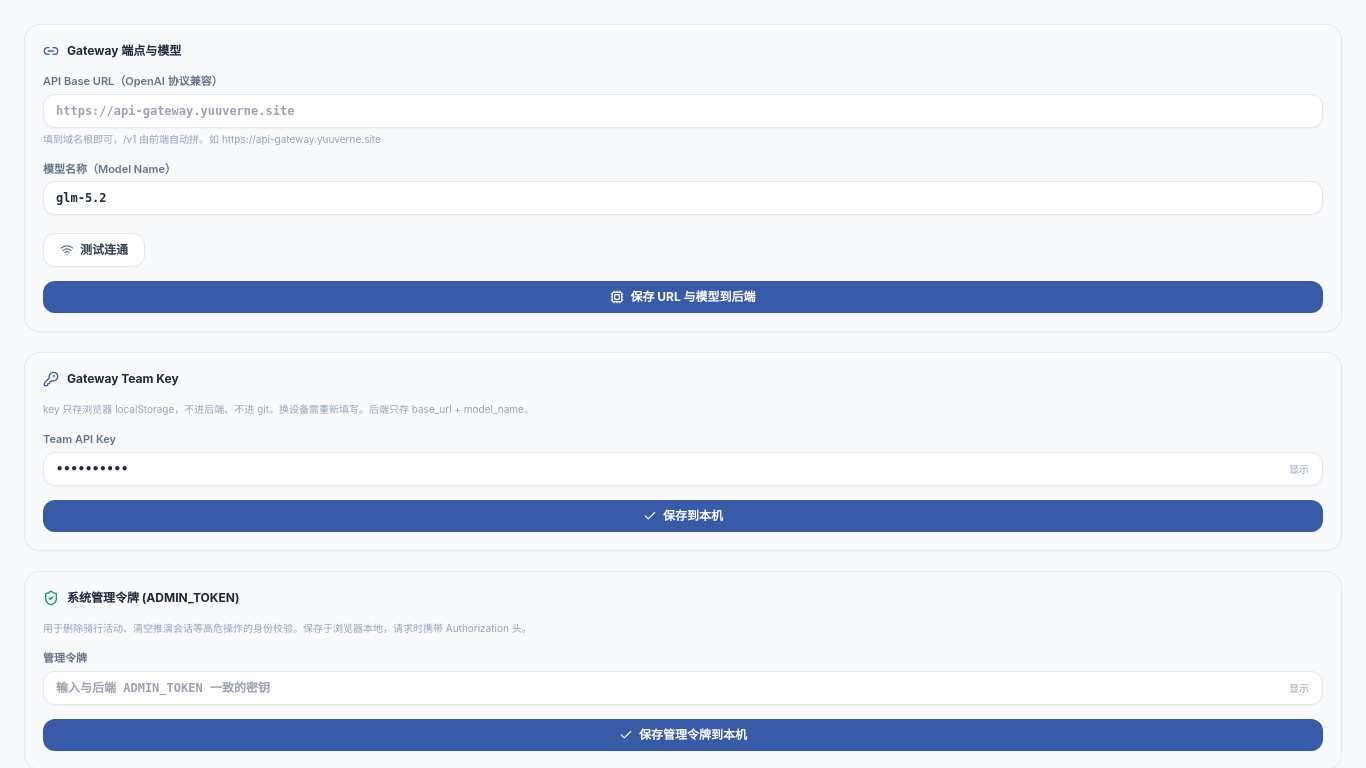
it: AIGatewayConfigTab AI 接入配置 › 保存 URL 与模型：调 updateAIConfig 并显示已保存
Check: the field with placeholder "glm-5.2" below "模型名称（Model Name）" is shown, box [43,181,1323,215]
Step 1. Type "https://gw.example.com" into the field with placeholder "https://api-gateway.yuuverne.site" → (683, 110), box [43,94,1323,128]
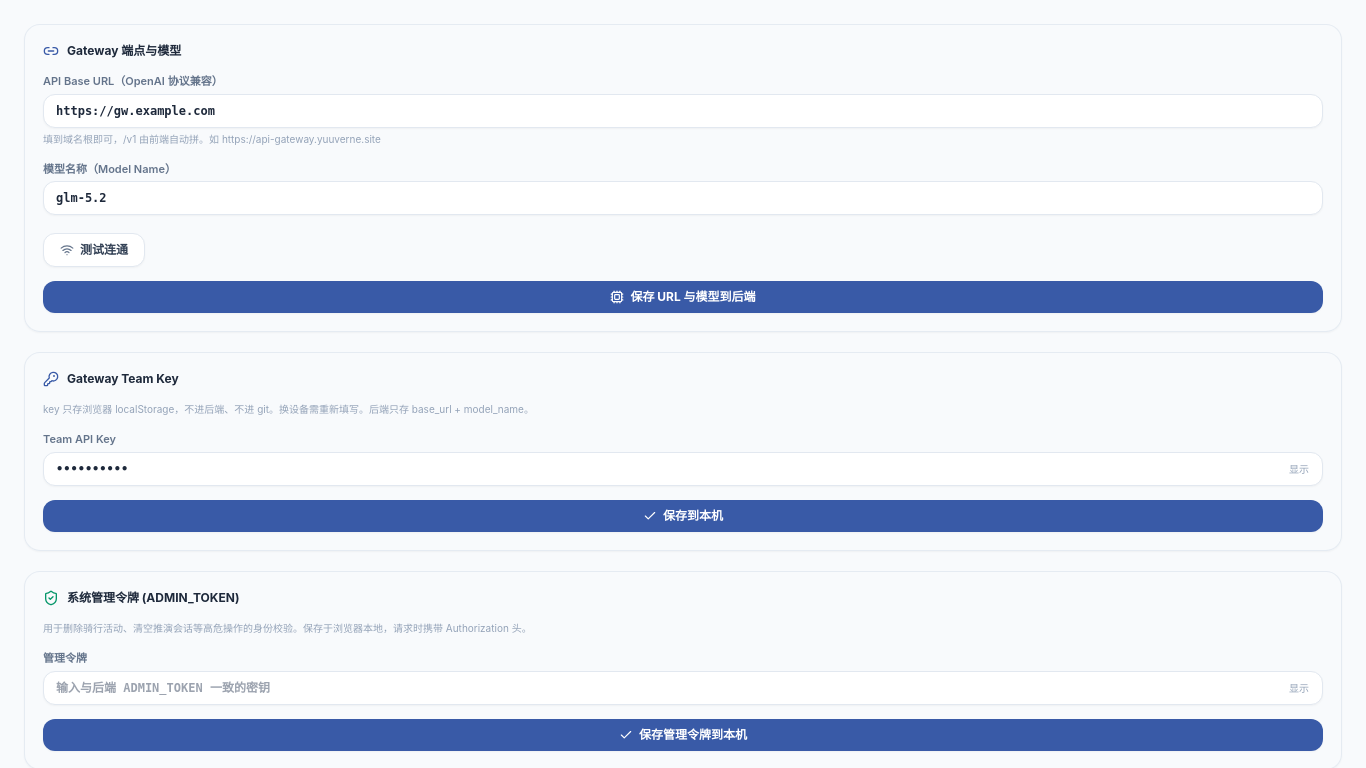
Step 2. Type "deepseek-v4-flash" into the field with placeholder "glm-5.2" below "模型名称（Model Name）" → (683, 198), box [43,181,1323,215]
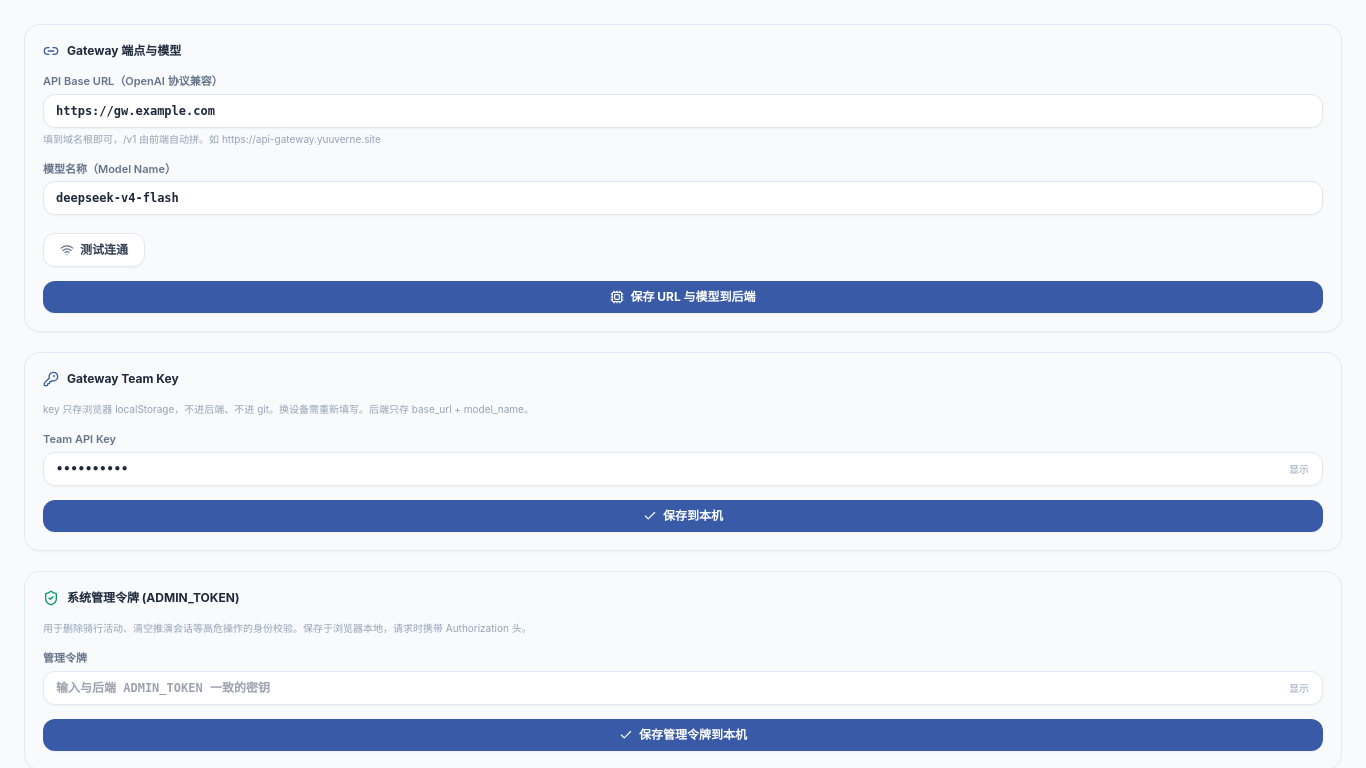
Step 3. Click the button "保存 URL 与模型到后端" → (683, 297), box [43,281,1323,313]
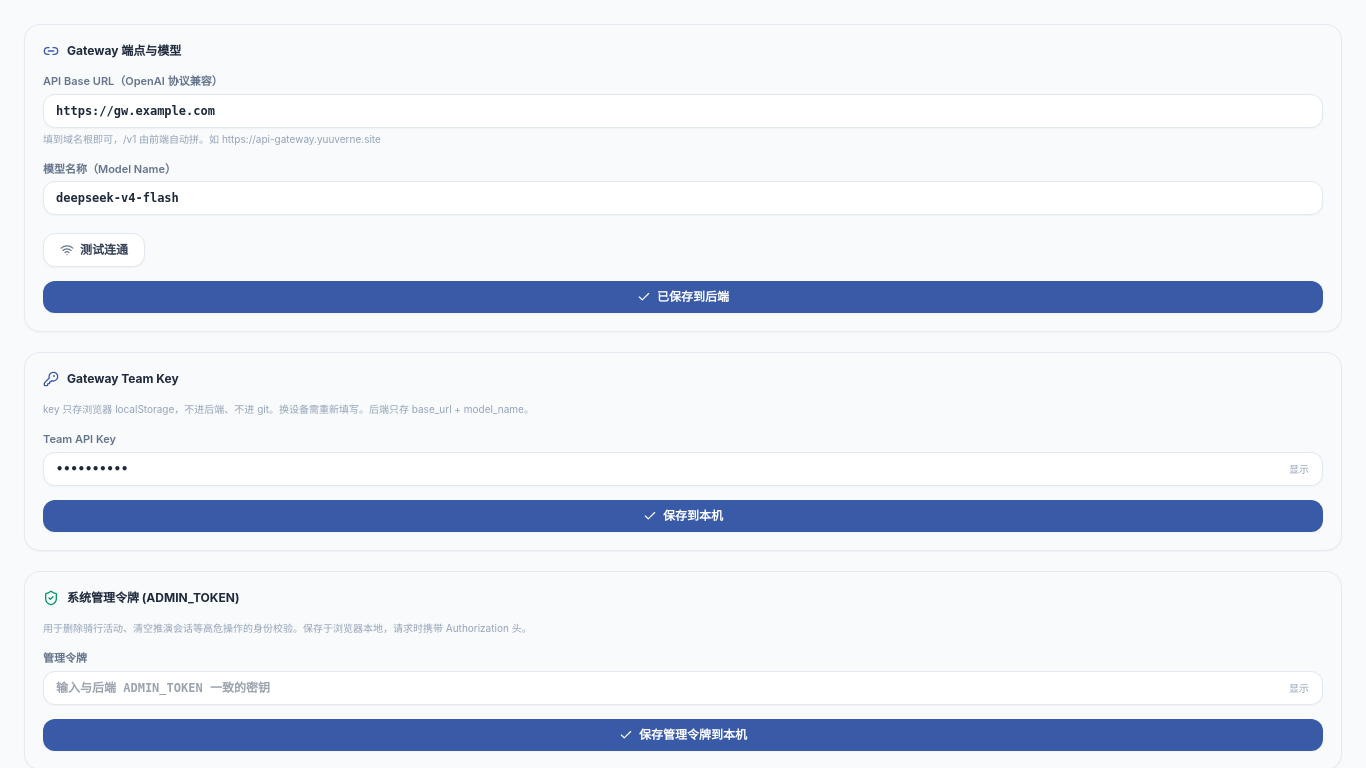
Check: the text "已保存到后端" is shown, box [657,289,729,305]
